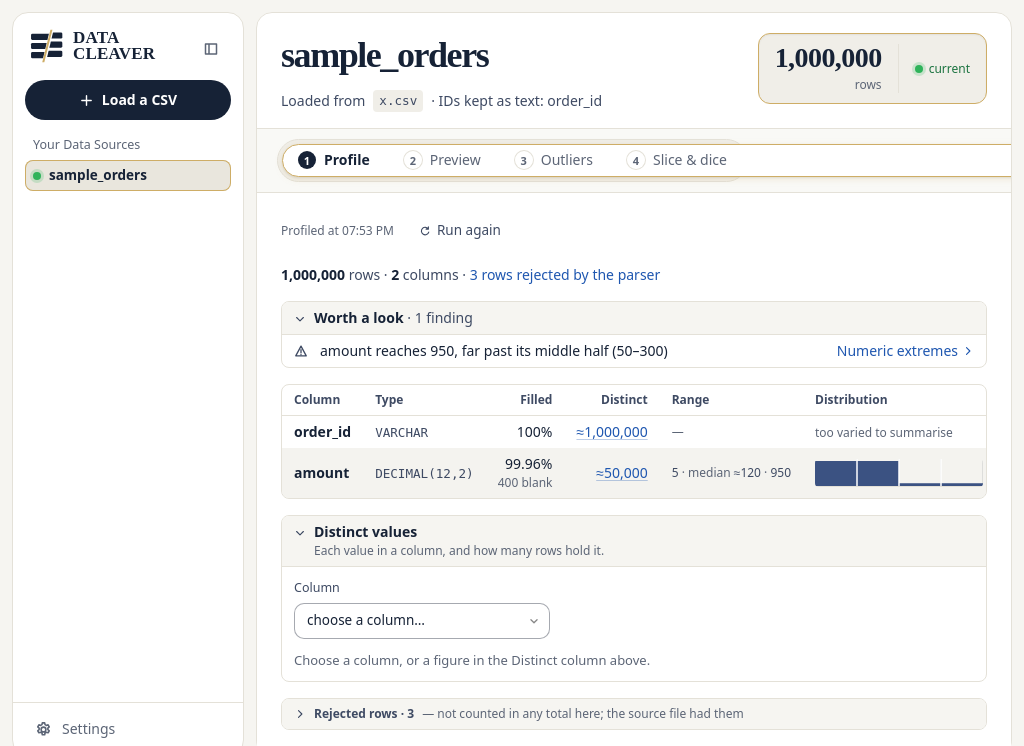
Scenario: The EDA path › opens the folded Distinct values box when a Distinct figure is clicked
Click the button "Distinct values".
click(366, 531)  # box [282,516,986,566]
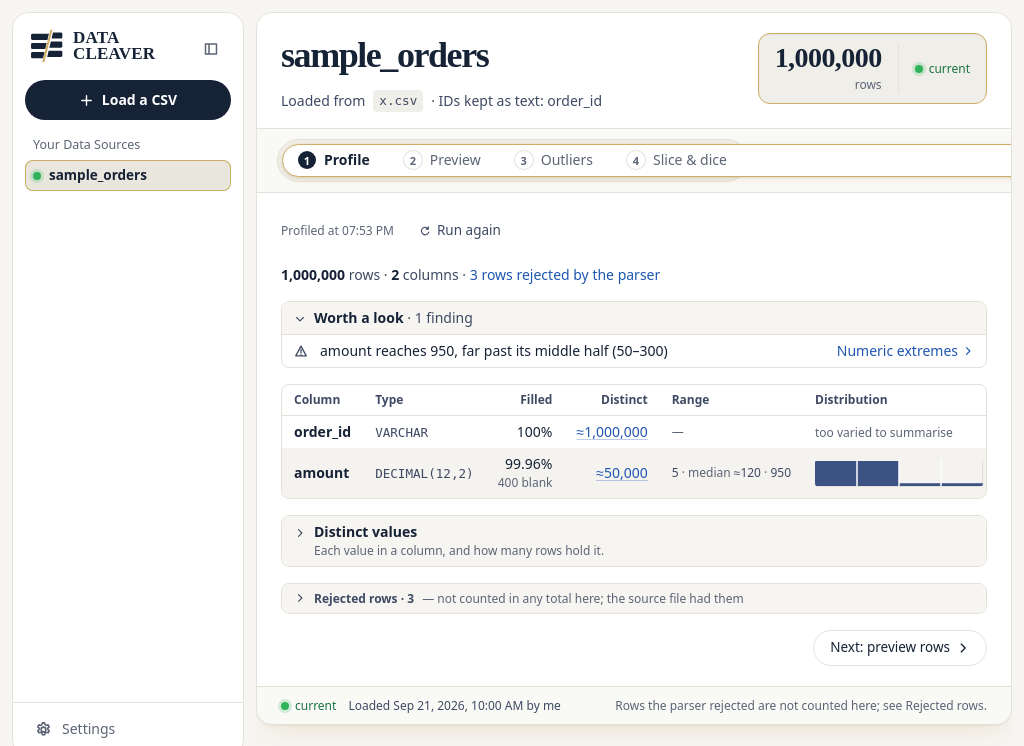
Click the button named "list the values of amount".
click(622, 473)  # box [596,463,648,483]
(page scrolled)
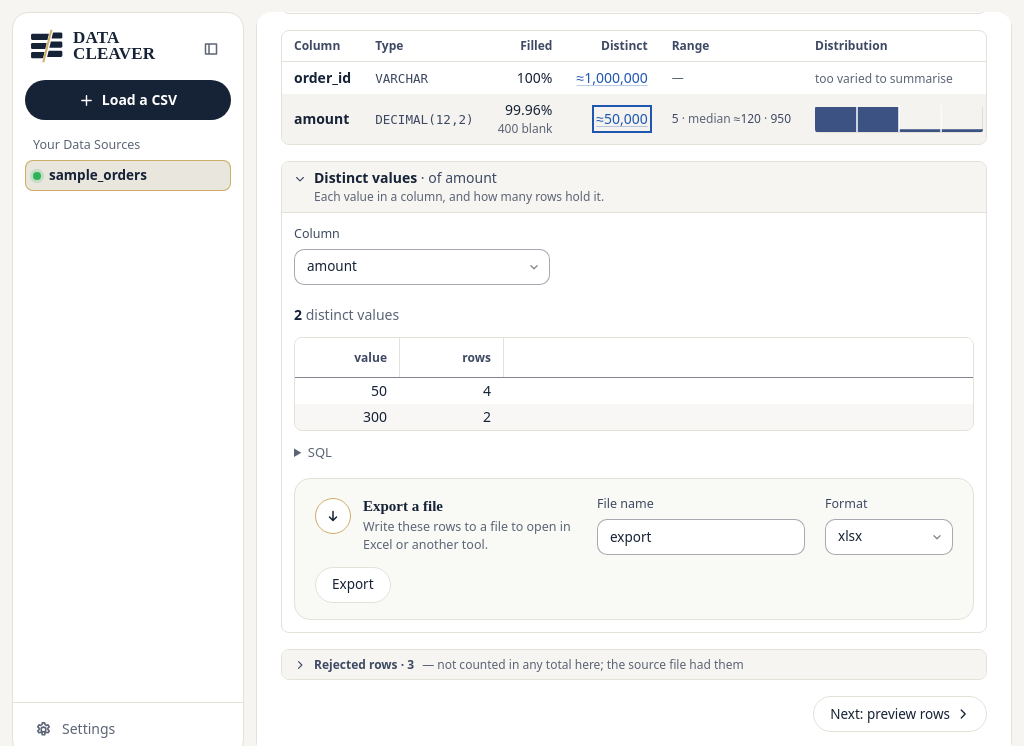
Result: the button "Distinct values" is expanded at [282,162,986,212]
Result: the table "value rows 50 4 300 2" is shown at [294,337,974,431]
